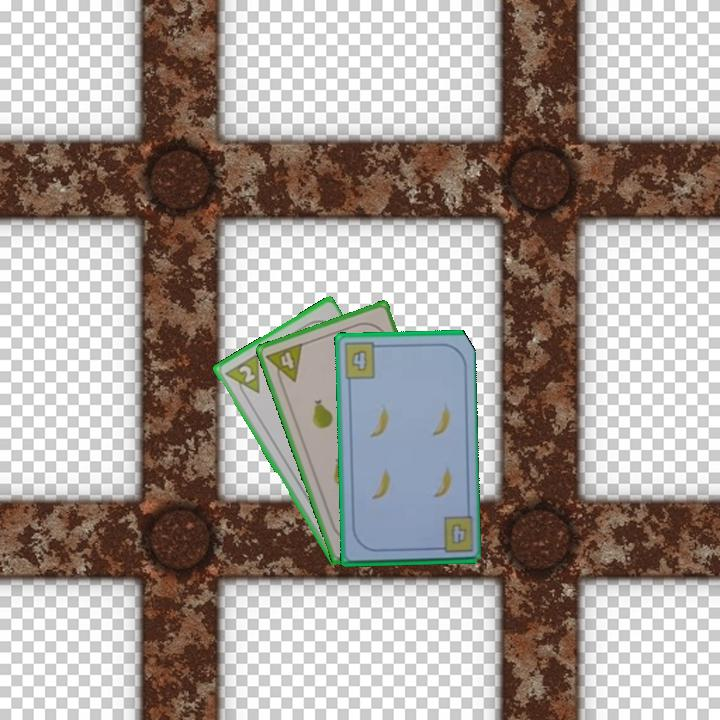2p: (221, 350, 263, 403)
4b: (340, 339, 384, 382), (447, 519, 469, 547)
4p: (262, 339, 306, 389)
